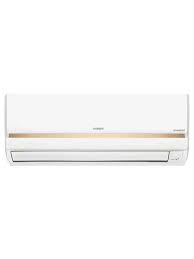ac: (1, 89, 194, 175)
